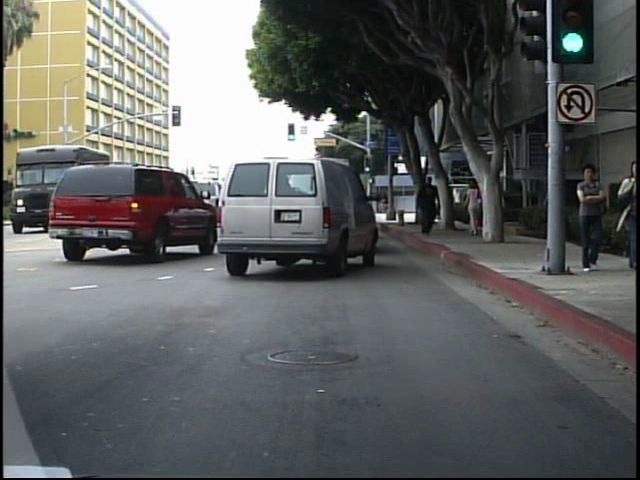person: (574, 161, 608, 279), (611, 157, 638, 271), (413, 177, 444, 241), (461, 179, 485, 240), (483, 172, 504, 241), (414, 186, 428, 220)
